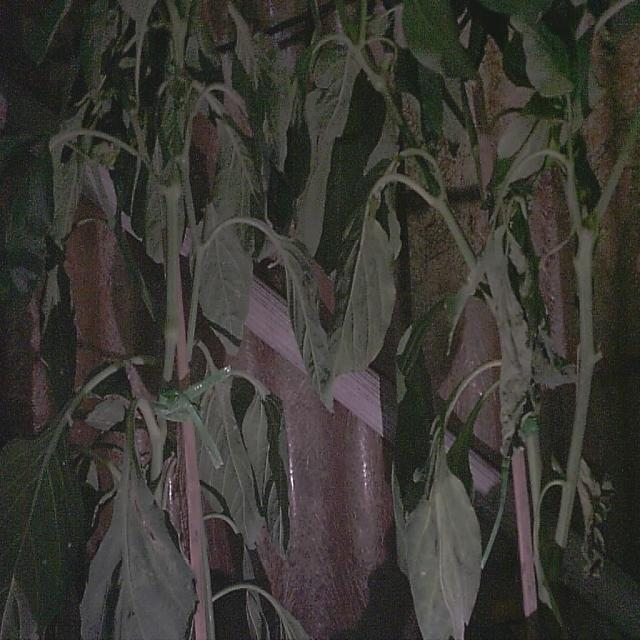Leaf: (81, 435, 196, 639), (0, 425, 81, 631), (404, 451, 481, 639), (297, 47, 360, 254), (330, 215, 395, 376), (199, 227, 253, 354)
